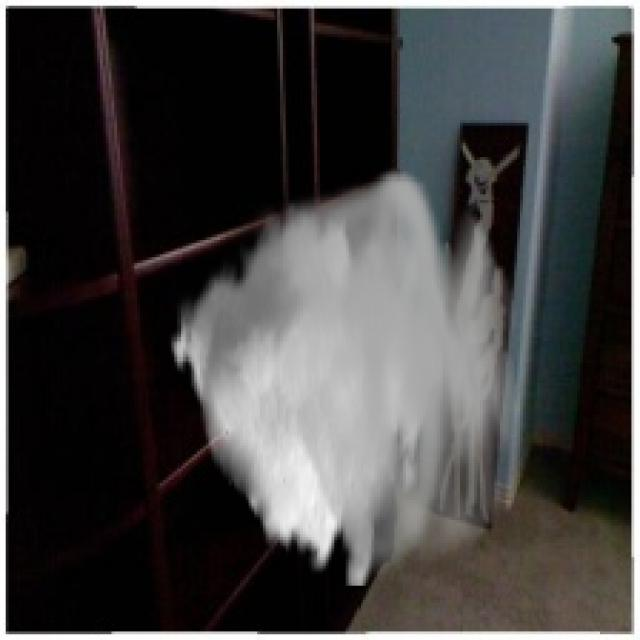smoke: (169, 163, 520, 586)
